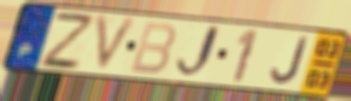1: (232, 28, 261, 85)
B: (127, 20, 178, 77)
J: (173, 22, 224, 82), (269, 35, 311, 87)
V: (93, 13, 141, 76)
Z: (38, 9, 96, 72)
